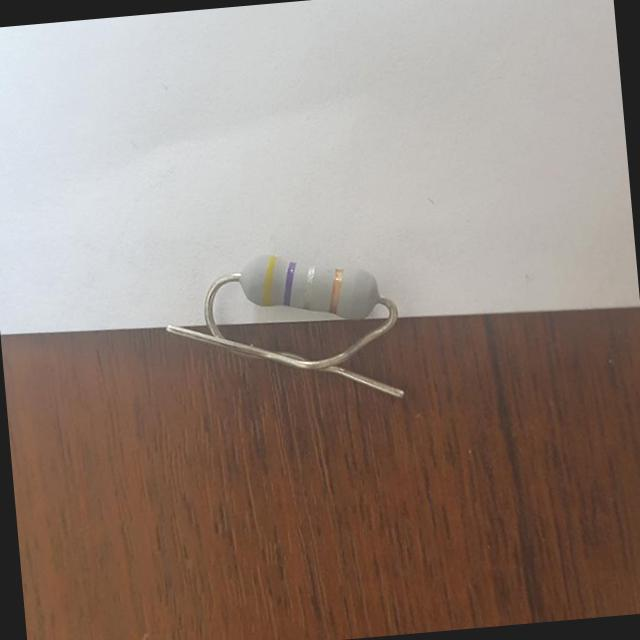Resistor: (240, 254, 380, 317)
gold: (327, 266, 343, 313)
purple: (282, 262, 297, 306)
silver: (303, 262, 316, 309)
yellow: (263, 257, 276, 306)
